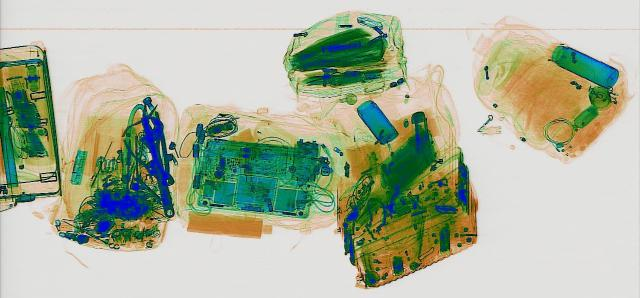Wrench: (132, 113, 182, 215)
